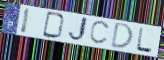C: (88, 20, 112, 46)
D: (42, 10, 67, 40), (110, 21, 135, 50)
I: (20, 7, 32, 36)
J: (67, 16, 90, 44)
L: (135, 26, 153, 55)
